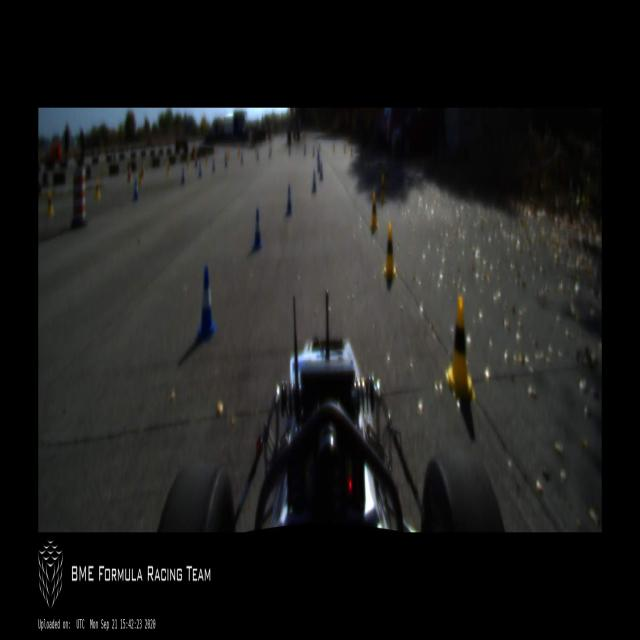blue_cone: (195, 266, 217, 338), (252, 208, 262, 250), (285, 186, 293, 217), (311, 170, 317, 194), (180, 166, 186, 185), (133, 178, 138, 200), (319, 163, 324, 181), (198, 163, 202, 179)
yellow_cone: (447, 294, 478, 401), (383, 223, 398, 279), (369, 192, 379, 231), (94, 176, 101, 201), (380, 174, 386, 203), (47, 189, 53, 216), (138, 168, 142, 185), (166, 162, 170, 176), (186, 157, 189, 169)
